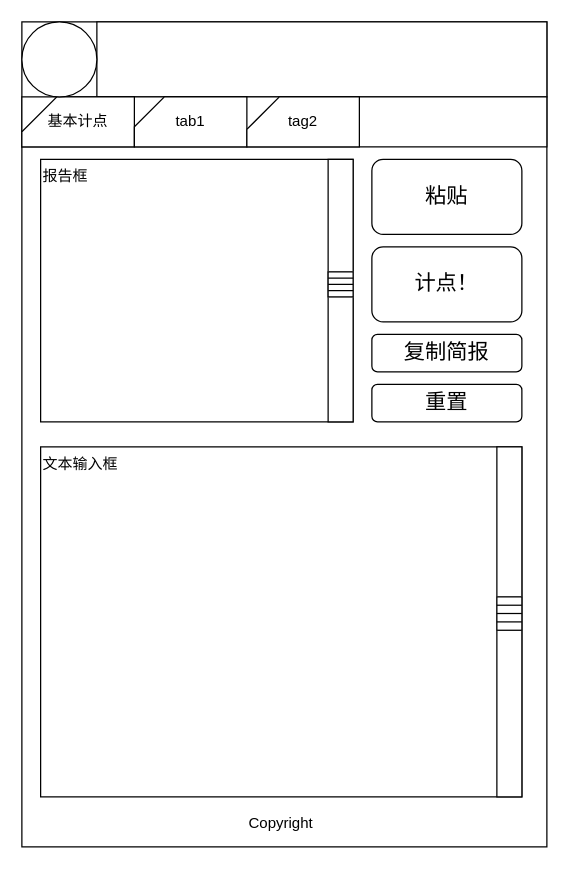
This 569x869 diagram has some shape labels left out. Here are the shapes that lost their labels. From the top down, the centre of each, then its label:
At point (59, 59): "icon".
At point (321, 59): "Acountool".
